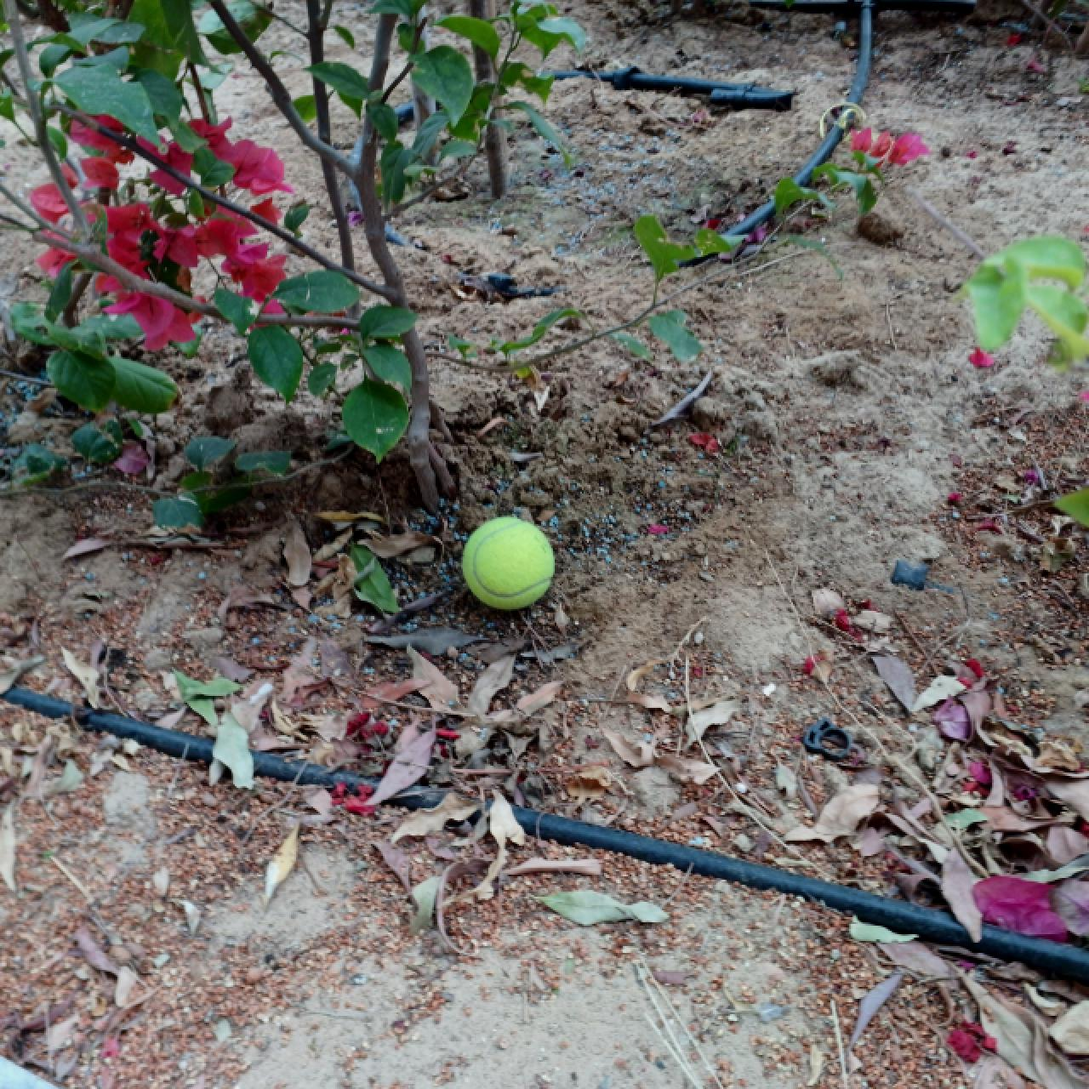tennis-ball: (456, 509, 557, 611)
